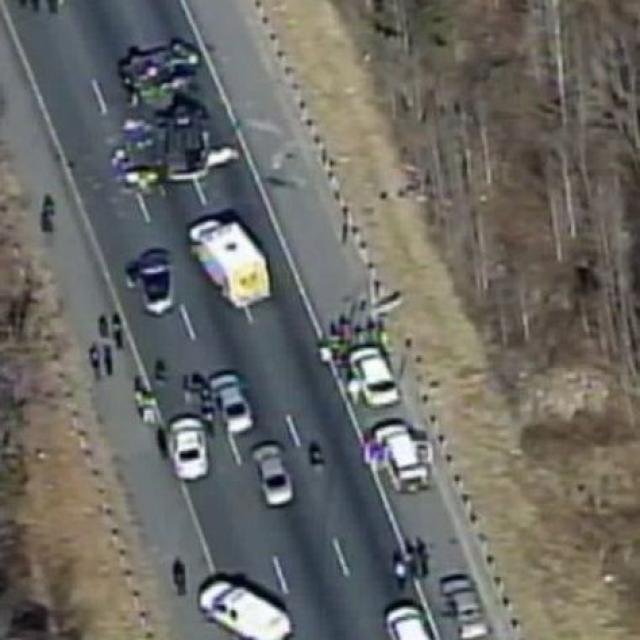traffic_incident: (100, 19, 228, 199)
